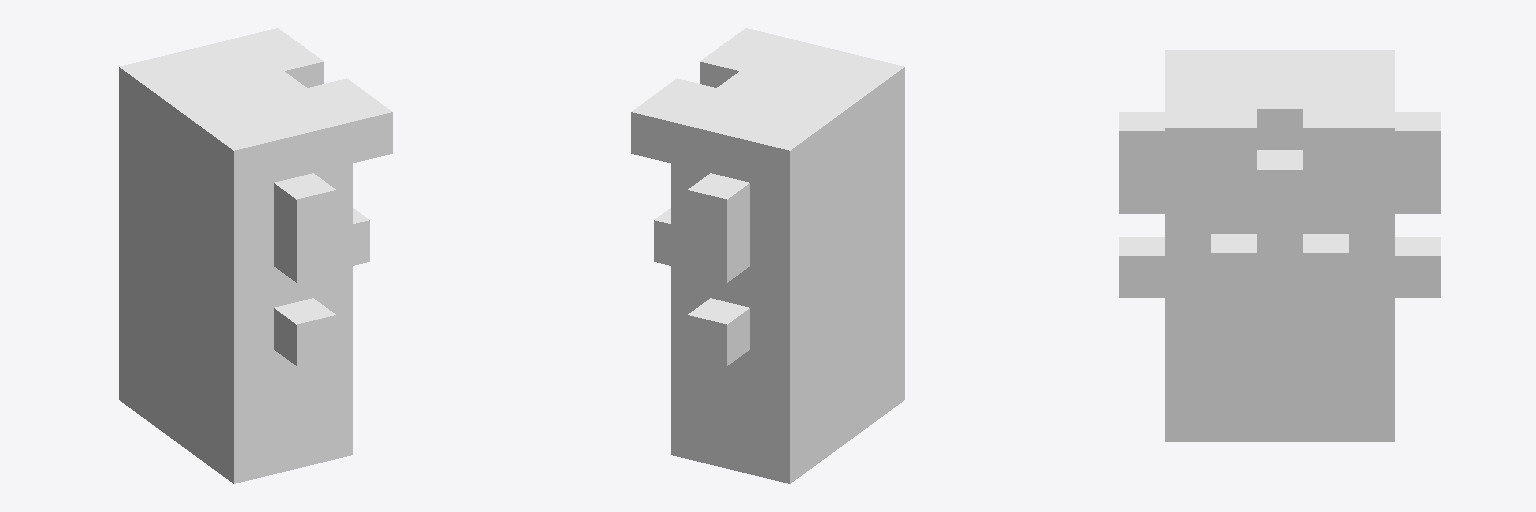
Rendered from Man-9.obj.
The picture shows the model from 3 angles: view 1: azimuth 30°, elevation 25°; view 2: azimuth 150°, elevation 25°; view 3: azimuth 270°, elevation 25°; orthographic projection.
Visible parts, largest first — view 1: object 1; view 2: object 1; view 3: object 1.
Part boxes in pixels (left/top/right/bottom): object 1: left=119, top=28, right=392, bottom=483; object 1: left=631, top=28, right=904, bottom=483; object 1: left=1119, top=50, right=1440, bottom=441.
Bounding box in the file's own units: 0.4 × 0.8 × 0.7.